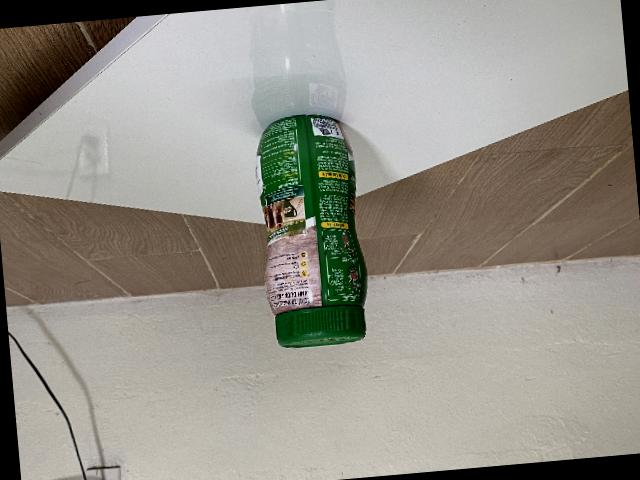milo: (255, 111, 367, 346)
